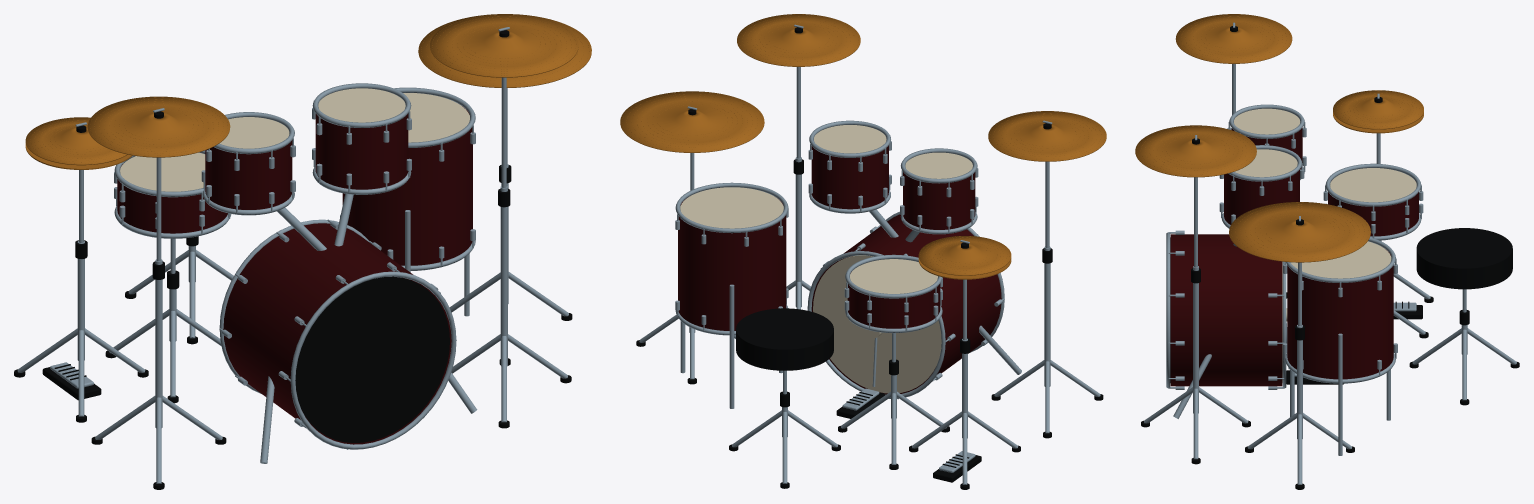
The model's file is Drumkit.obj.
3 views of the same model, side by side, from view 1: azimuth 30°, elevation 25°; view 2: azimuth 150°, elevation 25°; view 3: azimuth 270°, elevation 25° (orthographic). The views are drawn at different scales.
Parts seen in each view (by area): view 1: Kick_head.001, Kick_shell, FloorTom_shell, Crash2, Crash1, Tom2_shell, Tom1_shell, Snare_shell, HiHat, Kick_hoop.001, Ride, Snare_head.001 (+17 smaller); view 2: FloorTom_shell, Kick_head, Ride, Kick_shell, Throne_cushion, Crash2, Crash1, Tom2_shell, FloorTom_head.001, Tom1_shell, HiHat, Snare_shell (+12 smaller); view 3: Kick_shell, FloorTom_shell, Ride, Throne_cushion, Crash2, Crash1, HiHat, Snare_head.001, Tom2_shell, FloorTom_head.001, Snare_shell, Tom1_head.001 (+15 smaller).
Part boxes in pixels (x1,y1,x2,y2): Kick_head.001: (295, 276, 449, 442); Kick_shell: (223, 223, 451, 444); FloorTom_shell: (342, 106, 472, 265); Crash2: (430, 14, 578, 77); Crash1: (87, 96, 230, 157); Tom2_shell: (315, 113, 408, 189); Tom1_shell: (205, 140, 292, 209); Snare_shell: (117, 164, 227, 233); HiHat: (25, 117, 127, 165); Kick_hoop.001: (290, 271, 456, 449); Ride: (418, 14, 591, 87); Snare_head.001: (120, 152, 205, 191); FloorTom_shell: (678, 198, 786, 330); Kick_head: (813, 255, 941, 393); Ride: (620, 91, 764, 152); Kick_shell: (811, 214, 1001, 394); Throne_cushion: (736, 308, 833, 370); Crash2: (737, 14, 860, 66); Crash1: (988, 111, 1106, 161); Tom2_shell: (811, 145, 888, 209); FloorTom_head.001: (680, 187, 783, 228); Tom1_shell: (903, 172, 975, 229); HiHat: (918, 236, 1011, 275); Snare_shell: (847, 272, 940, 328); Kick_shell: (1170, 234, 1282, 386); FloorTom_shell: (1287, 249, 1393, 379); Ride: (1229, 202, 1370, 262); Throne_cushion: (1416, 228, 1512, 289); Crash2: (1135, 125, 1256, 177); Crash1: (1175, 14, 1292, 63); HiHat: (1333, 90, 1423, 129); Snare_head.001: (1330, 168, 1416, 202); Tom2_shell: (1224, 169, 1299, 224); FloorTom_head.001: (1290, 241, 1391, 278); Snare_shell: (1328, 192, 1418, 236); Tom1_head.001: (1234, 108, 1300, 134).
Size of the model in its own units: 1.95 by 1.32 by 1.52.
